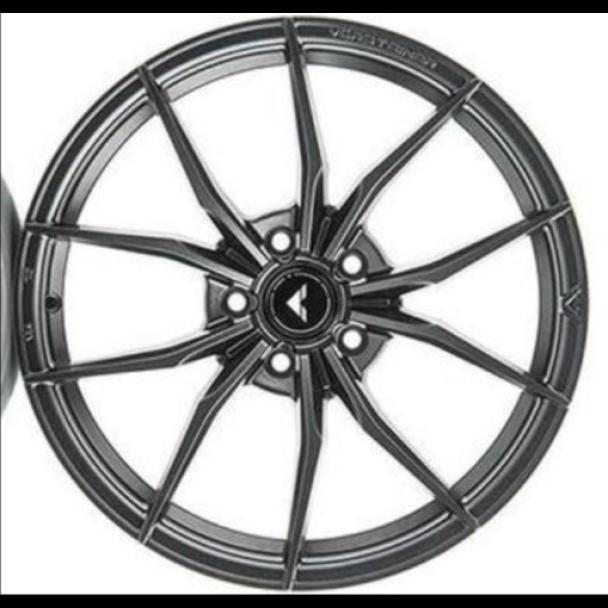hole: (261, 348, 296, 380), (219, 287, 252, 318), (334, 327, 367, 357), (265, 228, 296, 259), (336, 249, 366, 280)
